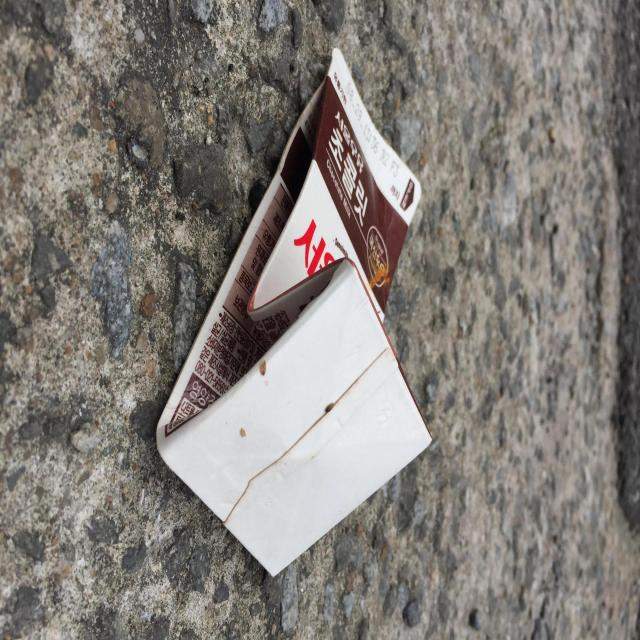paperpack: (156, 48, 431, 576)
